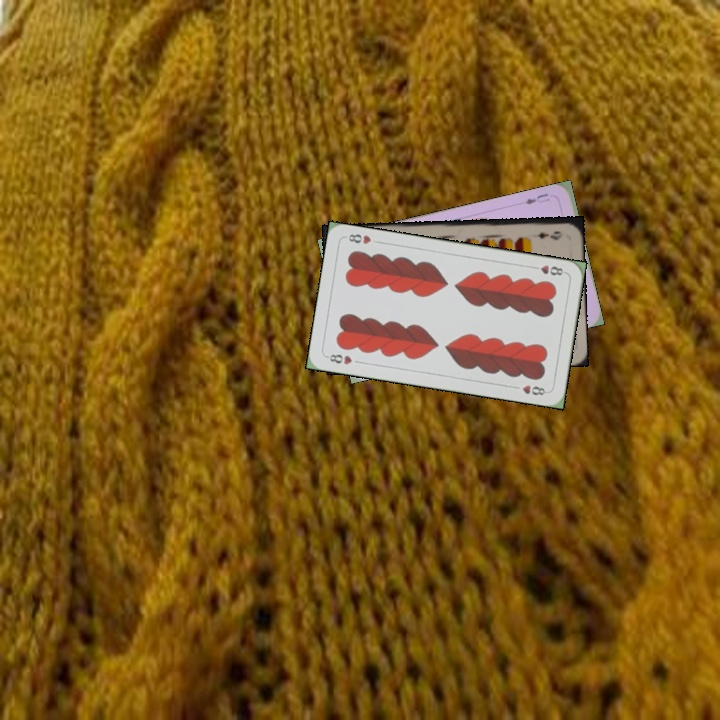E9: (534, 227, 566, 241)
EU: (521, 189, 552, 207)
H8: (528, 261, 568, 278), (323, 350, 355, 367)
